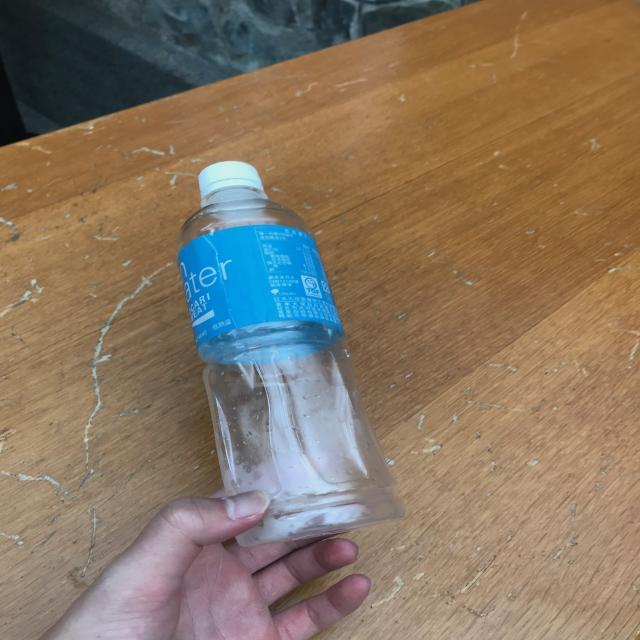plastic_bottle: (178, 160, 406, 546)
